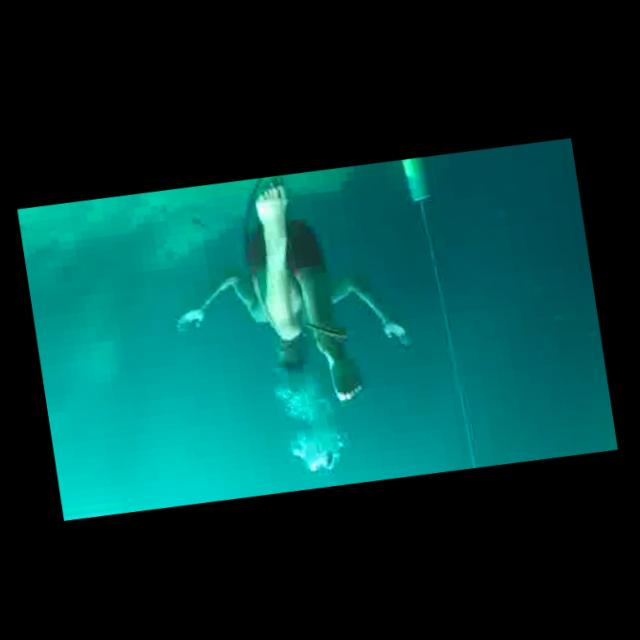human: (151, 153, 428, 420)
